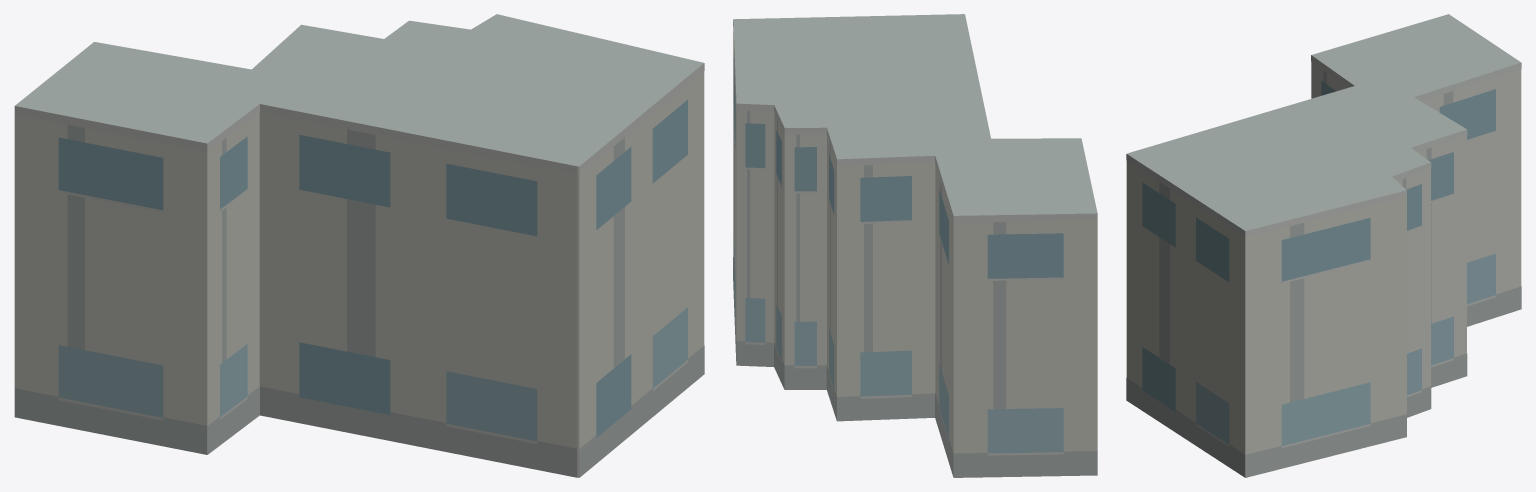
Rendered from survey-upis-32783430.glb.
The picture shows the model from 3 angles, left to right: view 1: azimuth 30°, elevation 25°; view 2: azimuth 150°, elevation 25°; view 3: azimuth 270°, elevation 25°; orthographic projection. The views are drawn at different scales.
Parts seen in each view (by area): view 1: survey-upis-32783430.tmp; view 2: survey-upis-32783430.tmp; view 3: survey-upis-32783430.tmp.
Boxes of the visible parts, bbox=[...] form: survey-upis-32783430.tmp: bbox=[14, 14, 704, 477]; survey-upis-32783430.tmp: bbox=[733, 14, 1097, 477]; survey-upis-32783430.tmp: bbox=[1126, 14, 1521, 477].
Size of the model in its own units: 17.27 by 9.15 by 13.28.
